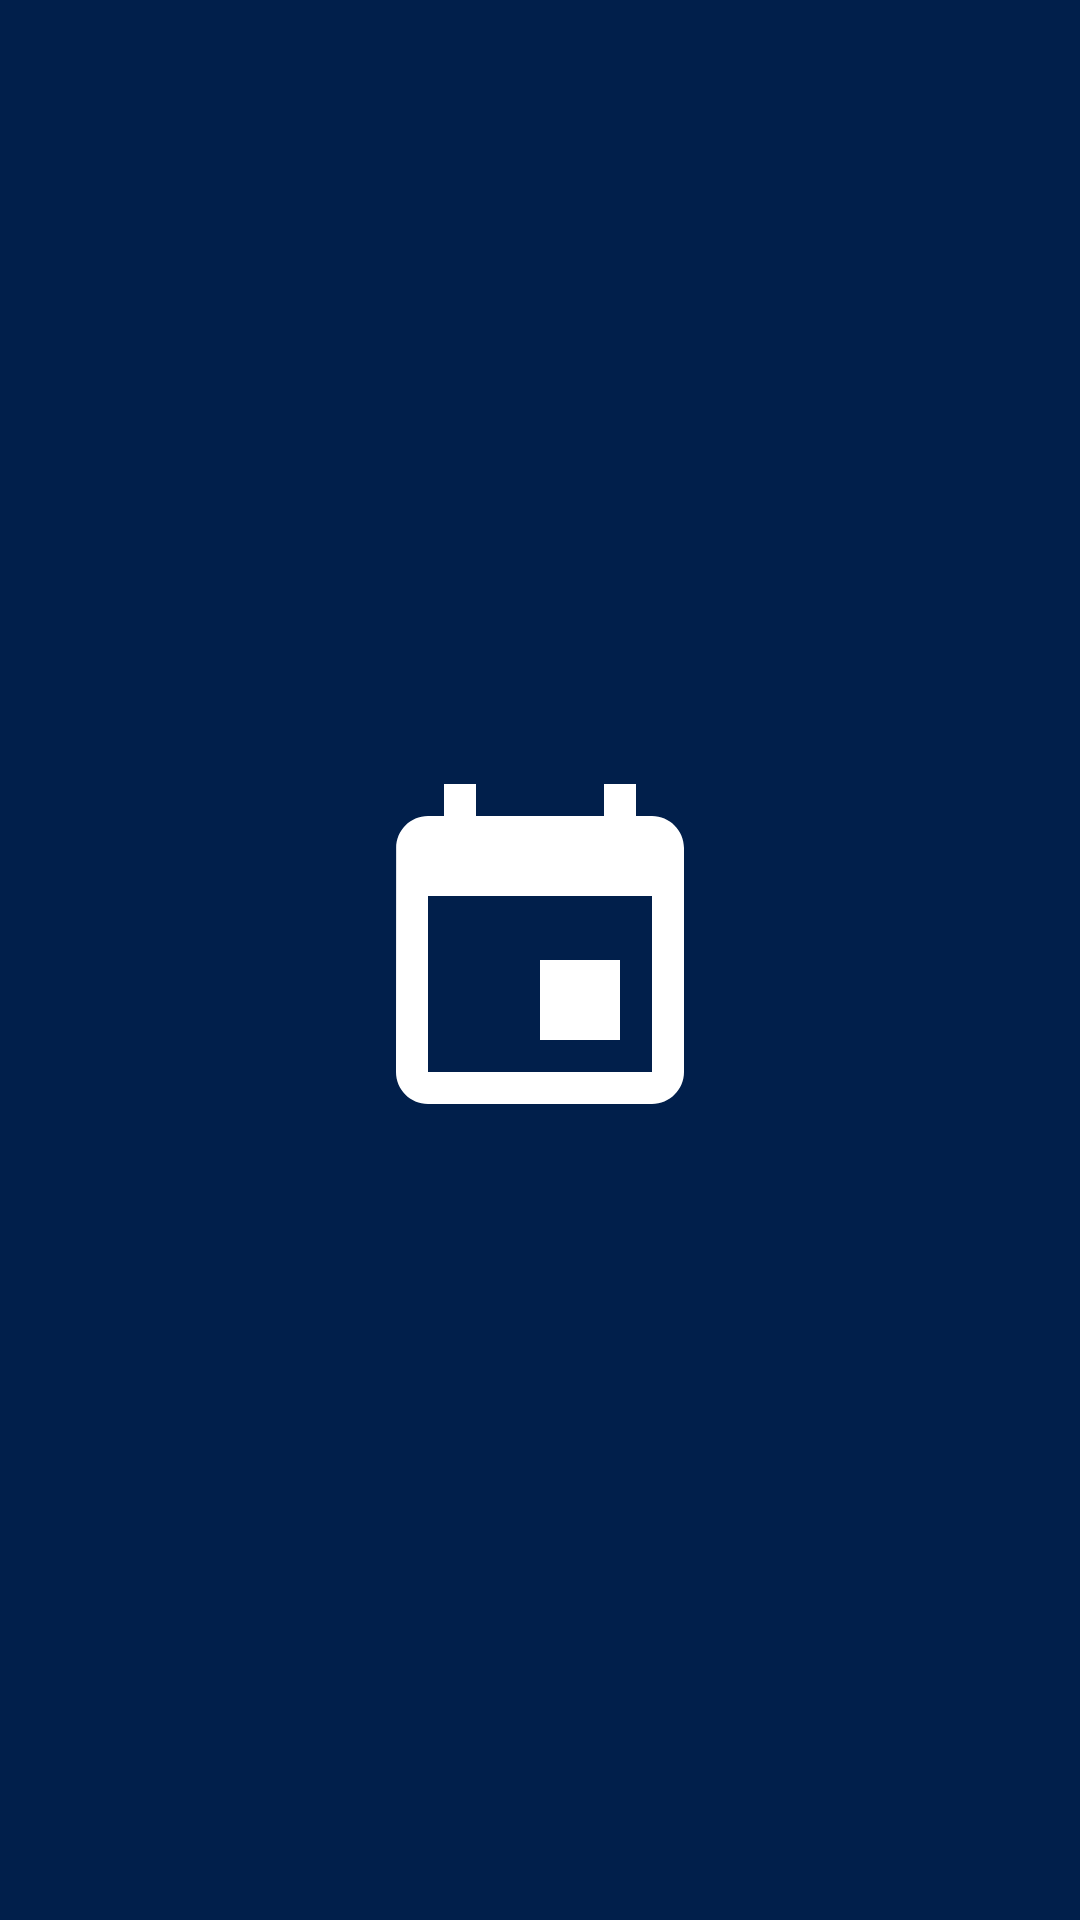

Icon bounding boxes for this 1080px×1920px phone screenshot, format (x1, y1, x2, y2):
event: (396, 784, 684, 1104)
